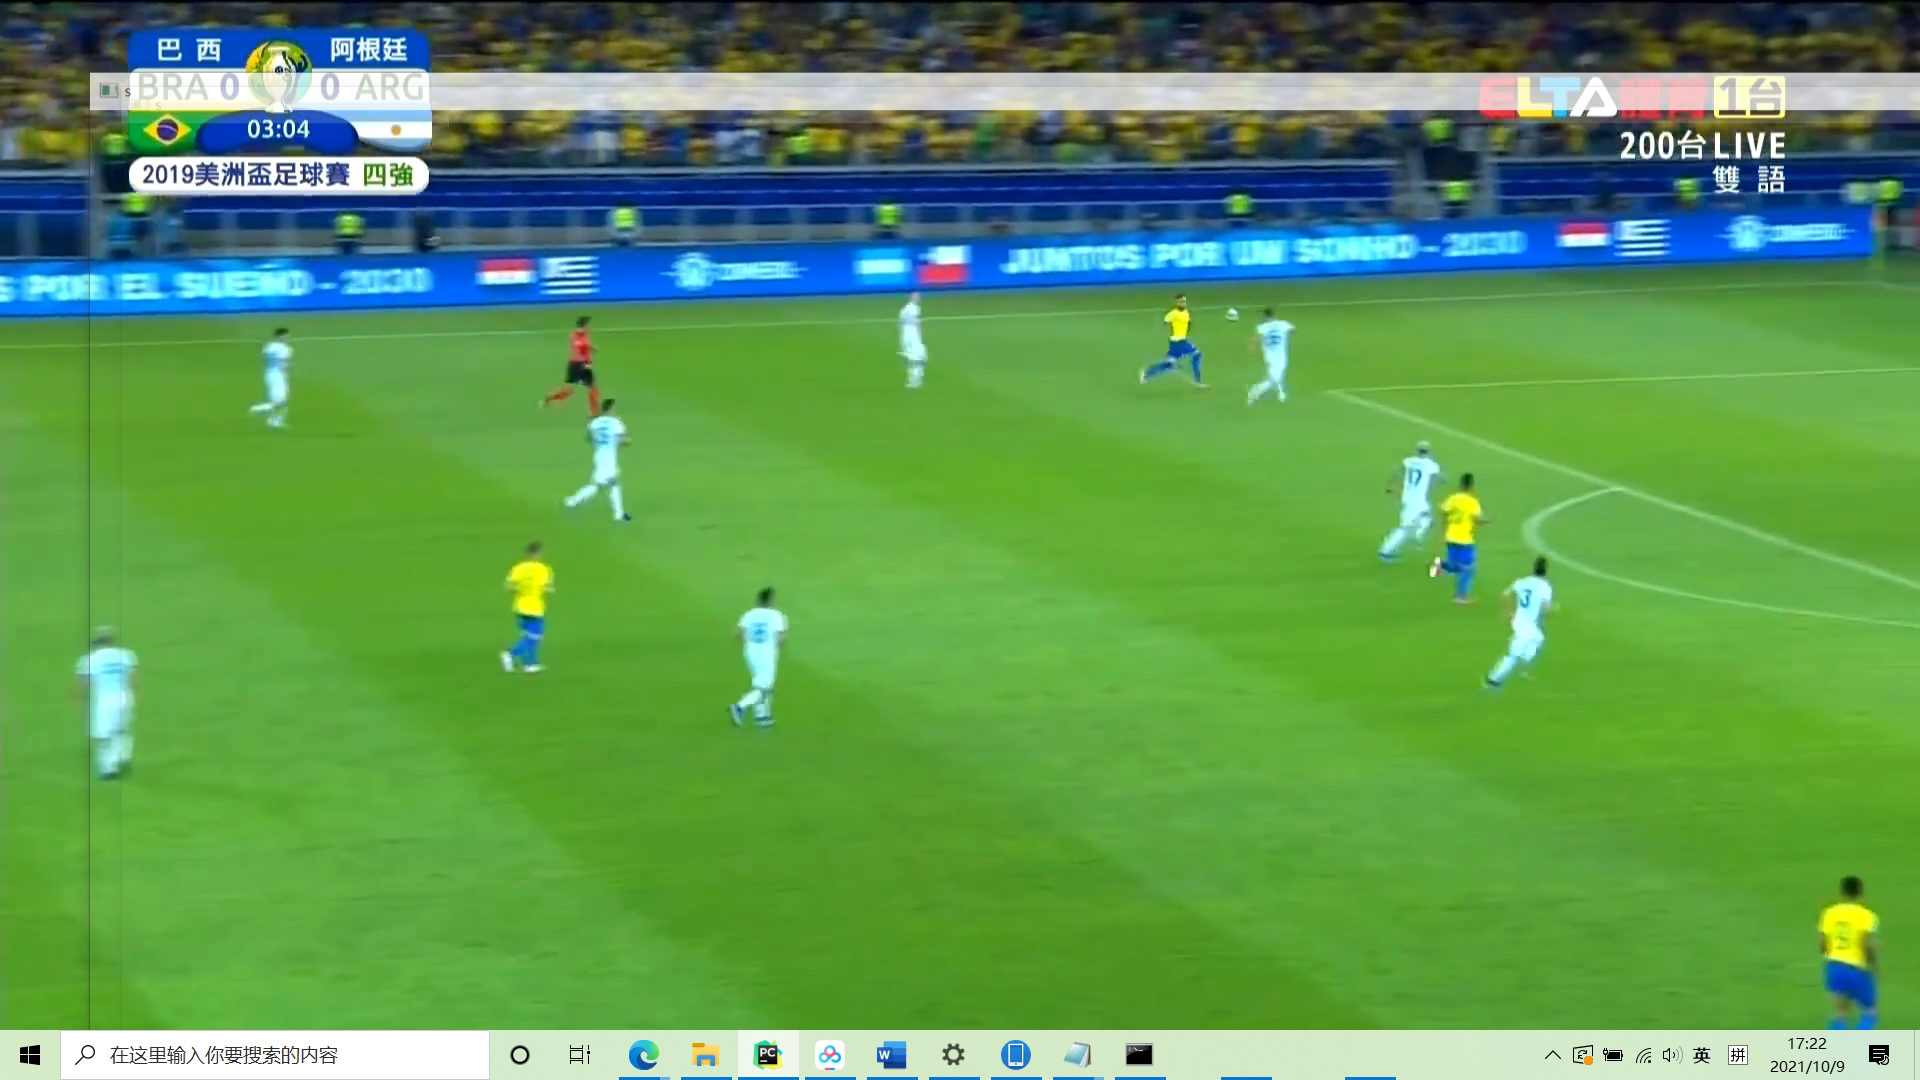ft: (1224, 306, 1240, 324)
